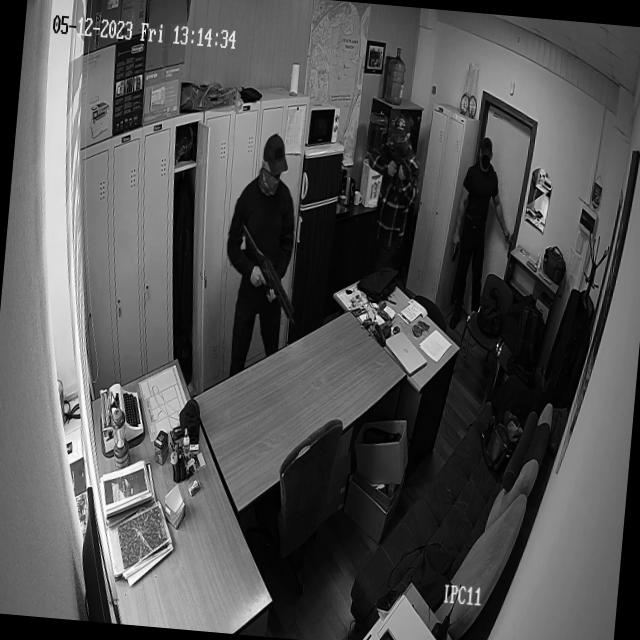gun: (228, 222, 306, 328), (378, 142, 416, 191), (451, 238, 460, 264)
person with a gun: (218, 133, 302, 359), (448, 136, 502, 321), (368, 115, 421, 276)
